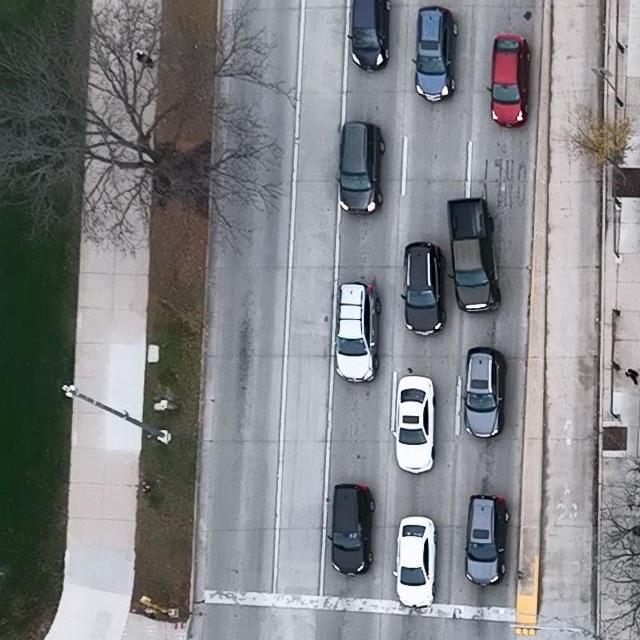car: (445, 198, 501, 314), (334, 122, 385, 216), (334, 282, 381, 384), (399, 242, 448, 337), (412, 5, 459, 103), (463, 494, 512, 588), (391, 374, 437, 474), (326, 484, 375, 576), (486, 33, 532, 129), (461, 346, 507, 438), (392, 515, 438, 607), (347, 0, 392, 71)
